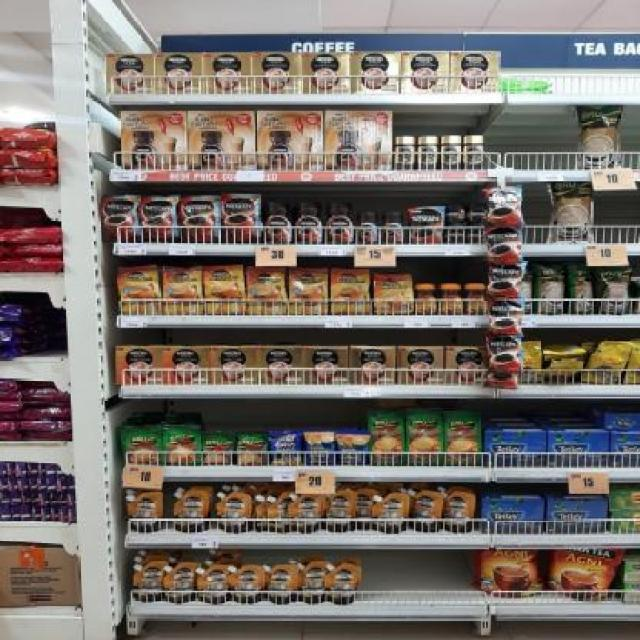Coffee: (246, 266, 288, 314), (203, 268, 245, 315), (118, 268, 160, 315), (163, 267, 204, 315), (100, 196, 142, 242), (180, 197, 221, 243), (222, 195, 260, 243), (140, 196, 178, 240), (333, 270, 371, 314), (290, 270, 328, 314), (374, 275, 412, 315), (291, 200, 323, 242), (324, 200, 354, 244), (264, 202, 292, 244), (411, 208, 444, 242), (438, 283, 464, 314), (394, 135, 415, 171), (462, 136, 484, 170), (414, 284, 438, 314), (382, 211, 404, 243), (356, 212, 378, 243), (466, 283, 488, 314), (442, 136, 461, 170), (418, 137, 437, 170), (446, 224, 464, 243), (468, 224, 487, 242), (446, 208, 466, 224), (470, 207, 489, 223)
